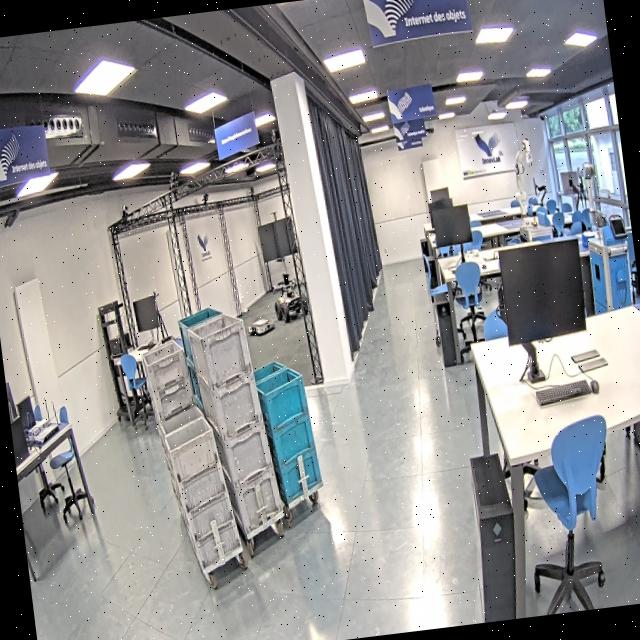Box3G: (140, 339, 190, 391), (148, 377, 196, 421)
Box4G: (195, 353, 265, 442), (185, 310, 254, 394), (224, 461, 286, 537), (210, 418, 275, 490)
Box8G: (160, 414, 222, 484), (172, 458, 229, 520), (183, 488, 235, 546), (191, 516, 244, 571)
BoxB4: (176, 302, 228, 370)
BoxB8: (252, 361, 310, 434), (265, 409, 321, 468), (269, 452, 325, 504)
